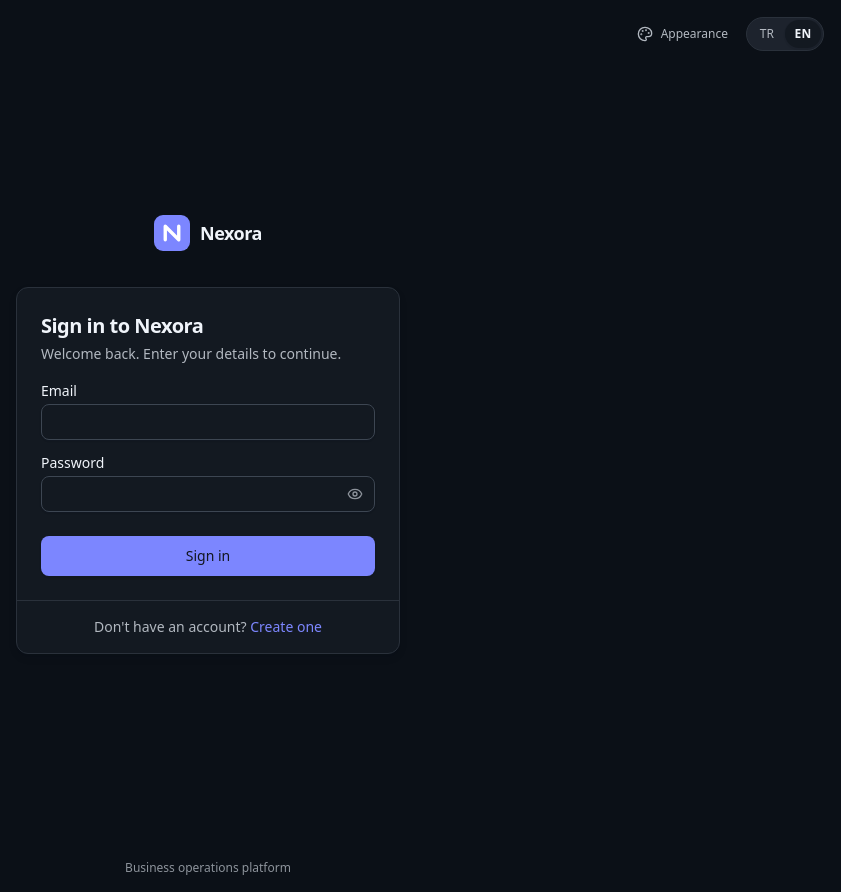
interface language › switches a guest immediately, keeps typed input, and remembers it on this device only
Check: the heading "Sign in to Nexora" is shown, box [41, 312, 203, 338]
Type "ada@test.example" into the field labelled "Email" at x=208, y=422, box [41, 404, 375, 440]
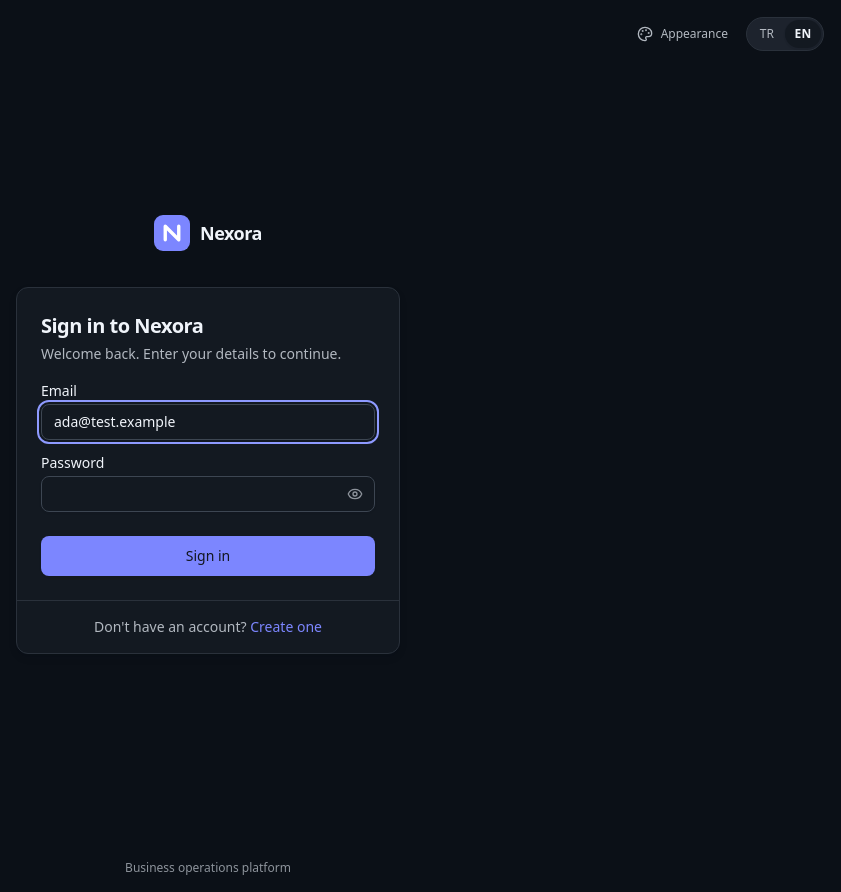
Click the radio button with aria-label "Türkçe" at x=767, y=34, box [749, 20, 785, 48]
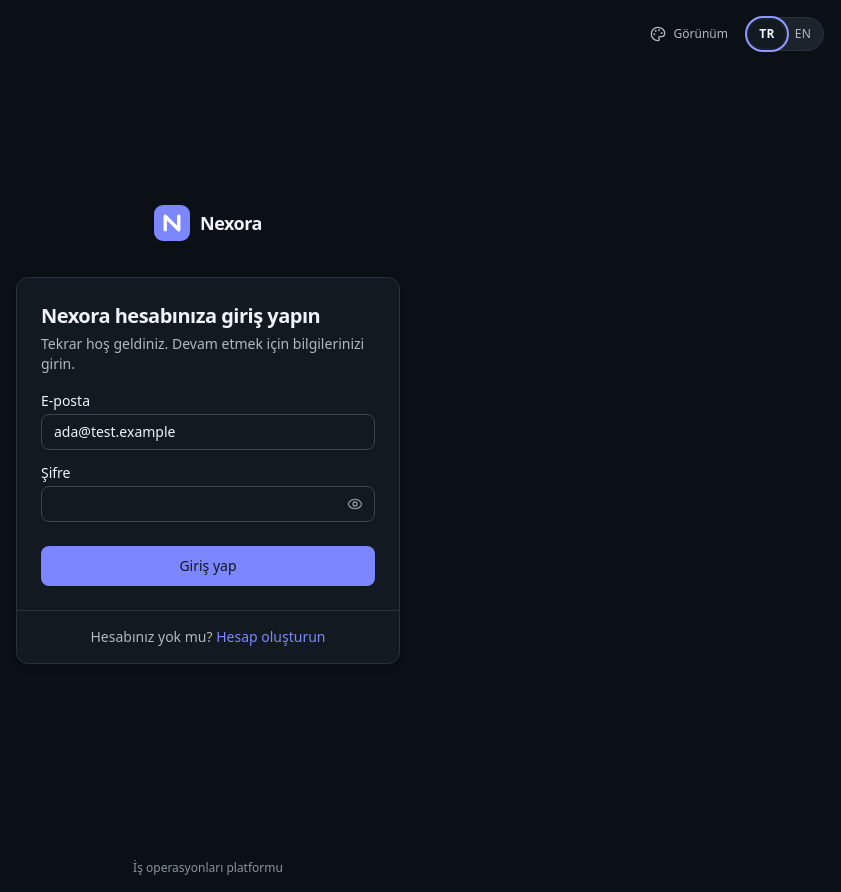
Check: the heading "Nexora hesabınıza giriş yapın" is shown, box [41, 302, 320, 328]
